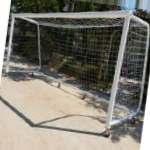goals: (5, 8, 150, 124)
